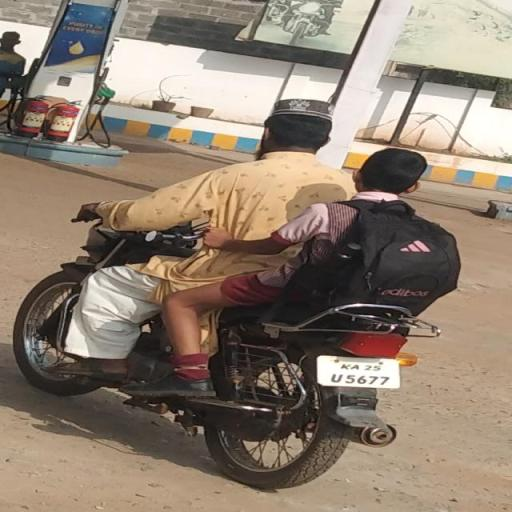bike: (13, 97, 479, 491)
numberplate: (316, 353, 403, 388)
withouthelmet: (365, 148, 428, 198), (269, 102, 331, 152)
